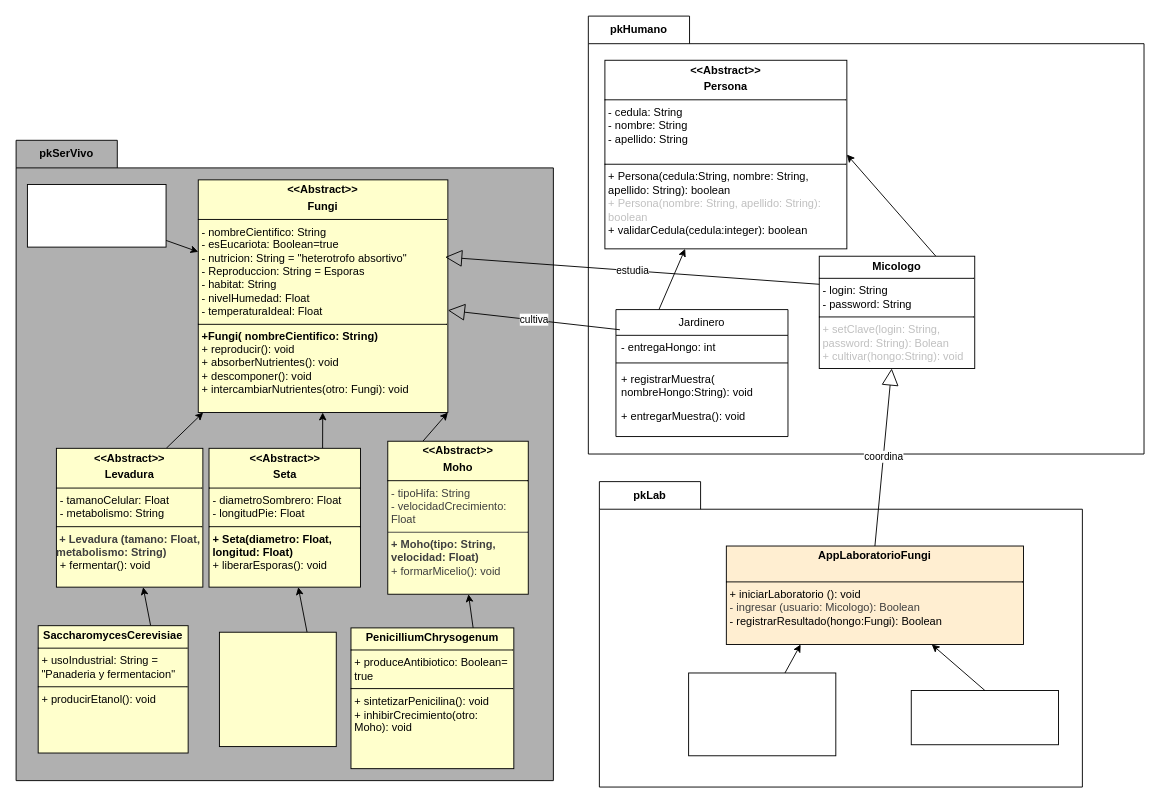
Some shapes in this 1160 by 803 pixel diagram are drawn without their labels. The centre of each missing label's shape, as x and y in pixels:
<<Abstract>> SerVivo - conVida: Boolean = true: the point at 96,215
App + main ( String[ ] ): void: the point at 984,717
ChampinonComun + comestible: Boolean= true + cosechar(): void: the point at 277,689
Datafast + field: Type + method(): Type: the point at 762,714
